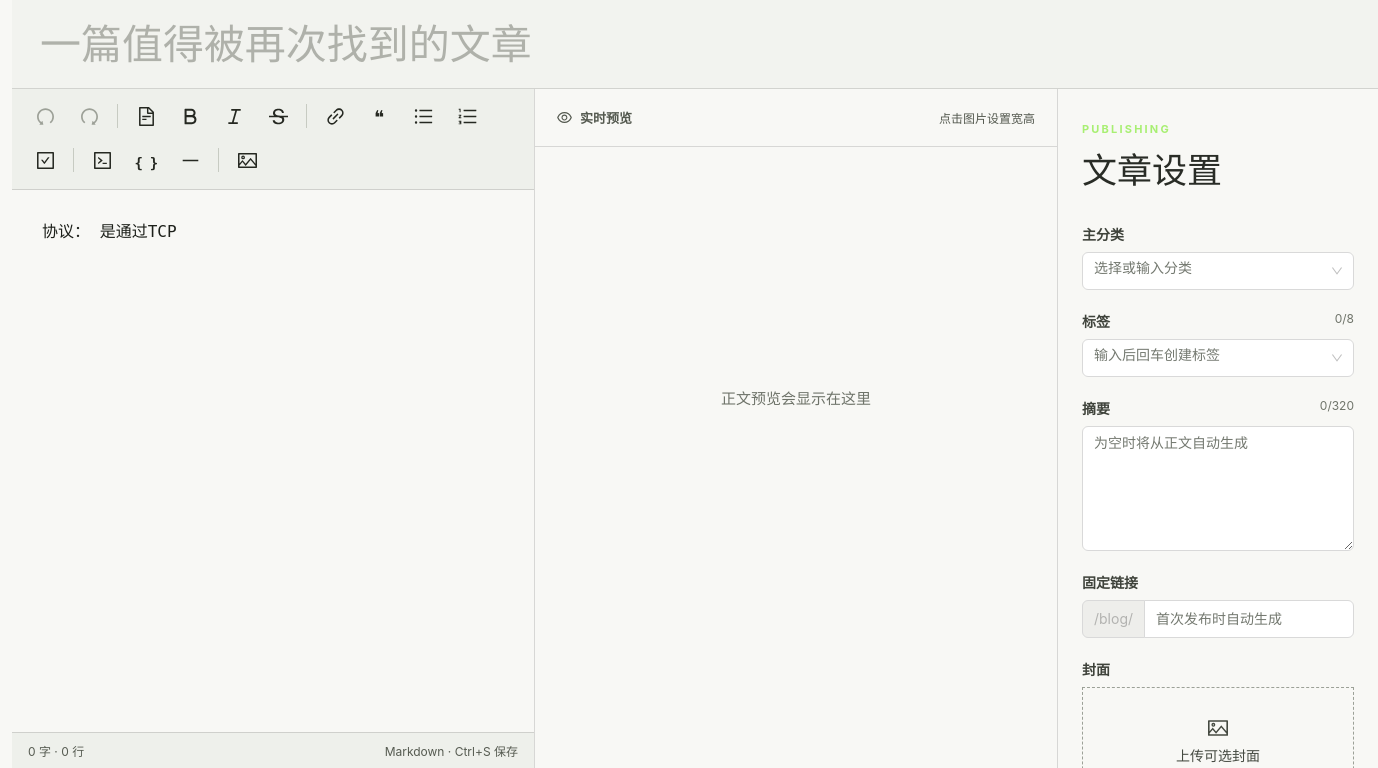
Test: BlogEditorPage interactions › toggles bold and supports undo/redo keyboard shortcuts
The width and height of the screenshot is (1378, 768).
(page scrolled)
Replace the text in the text box with class "blog-markdown-input" with "协议： 是通过TCP ": (273, 461) [12,190,534,732]
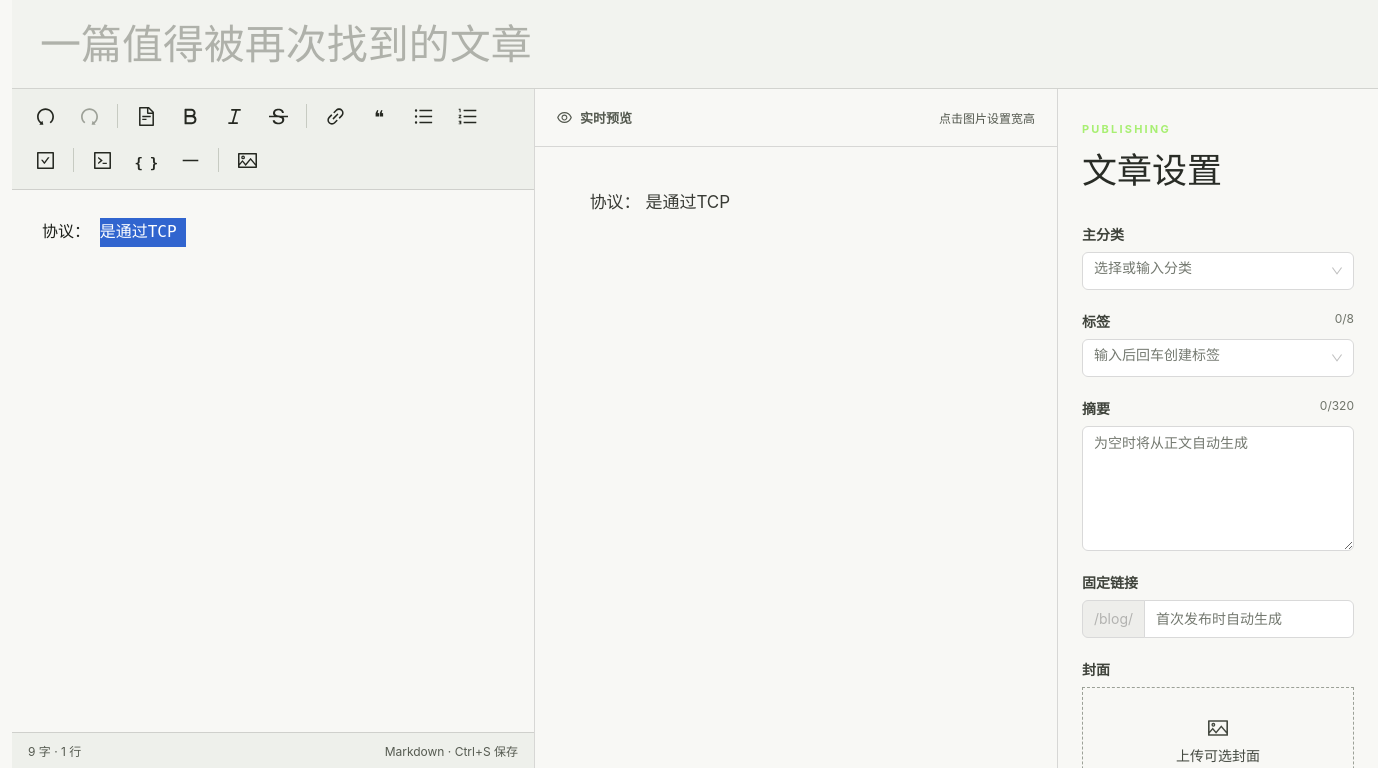
Click the button named "加粗": (190, 117) [169,96,211,138]
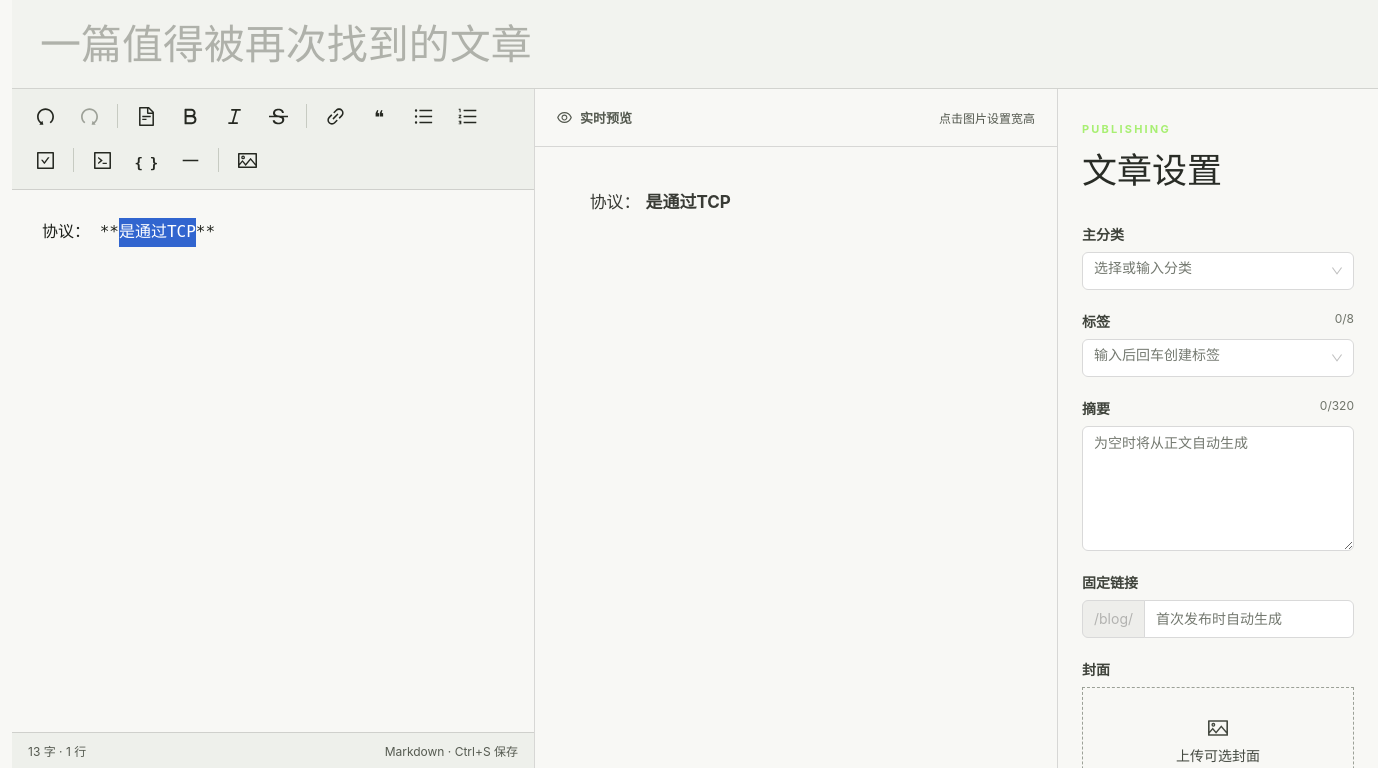
Result: the text "是通过TCP" is shown at [645,192,731,212]
Result: the text box with class "blog-markdown-input" holds "协议： **是通过TCP** " at [12,190,534,732]
Click the button named "加粗": (190, 117) [169,96,211,138]
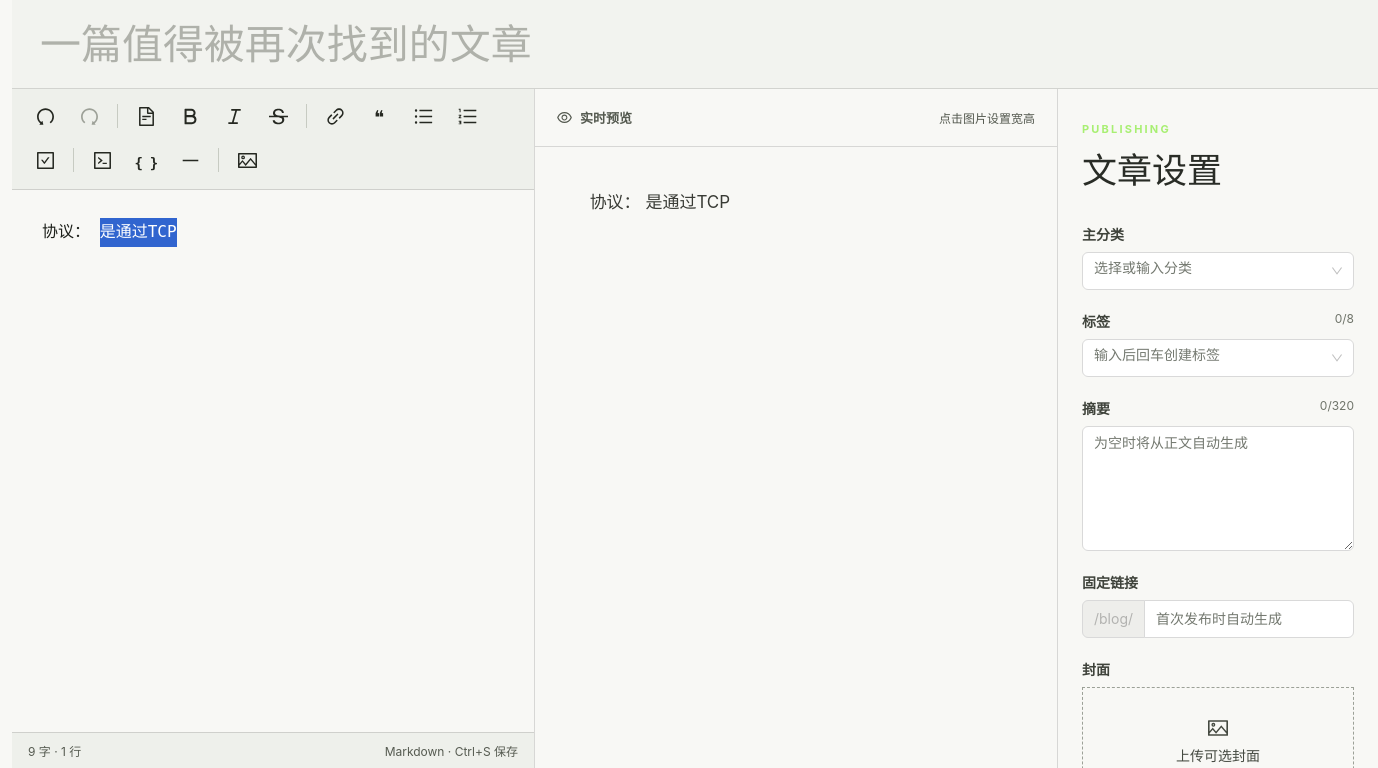
Click the button named "加粗": (190, 117) [169,96,211,138]
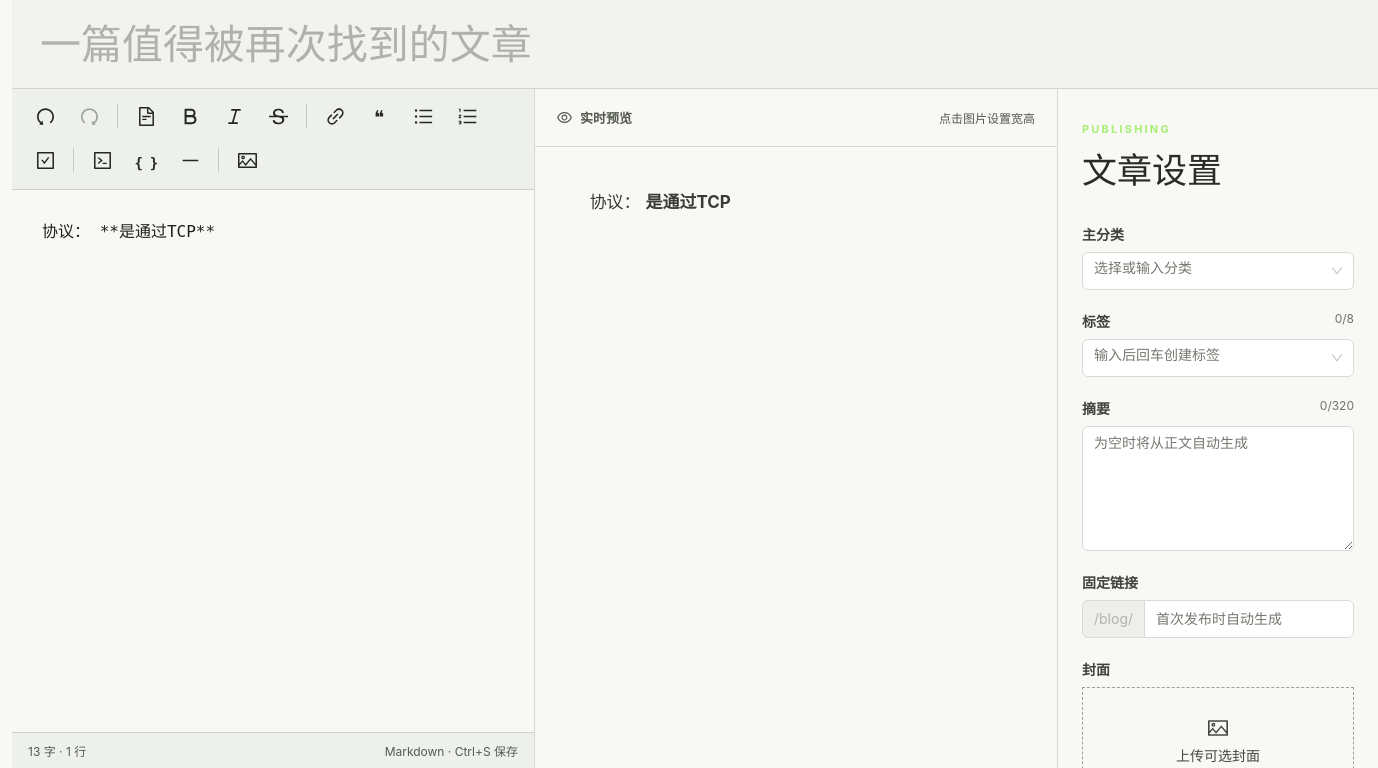
Press z in the text box with class "blog-markdown-input", box [12,190,534,732]
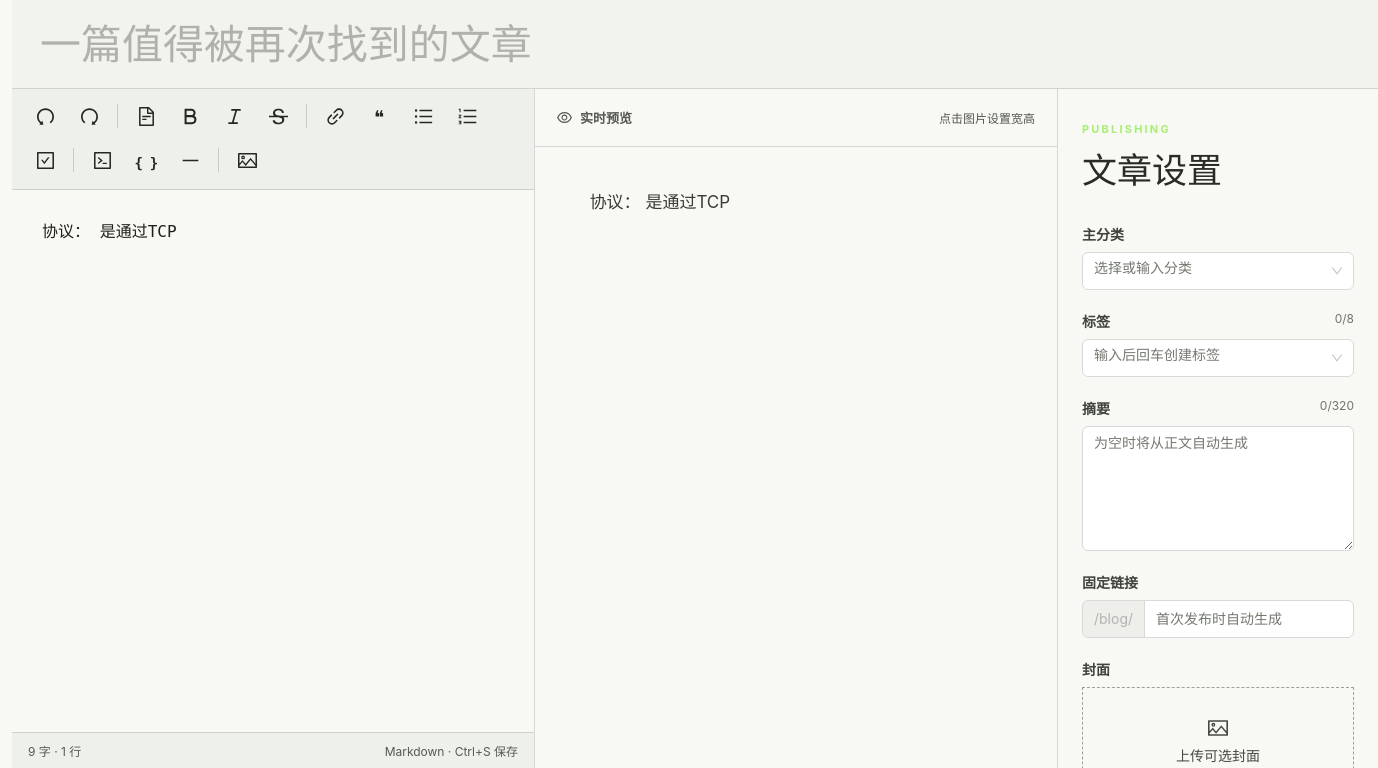
Press z in the text box with class "blog-markdown-input", box [12,190,534,732]
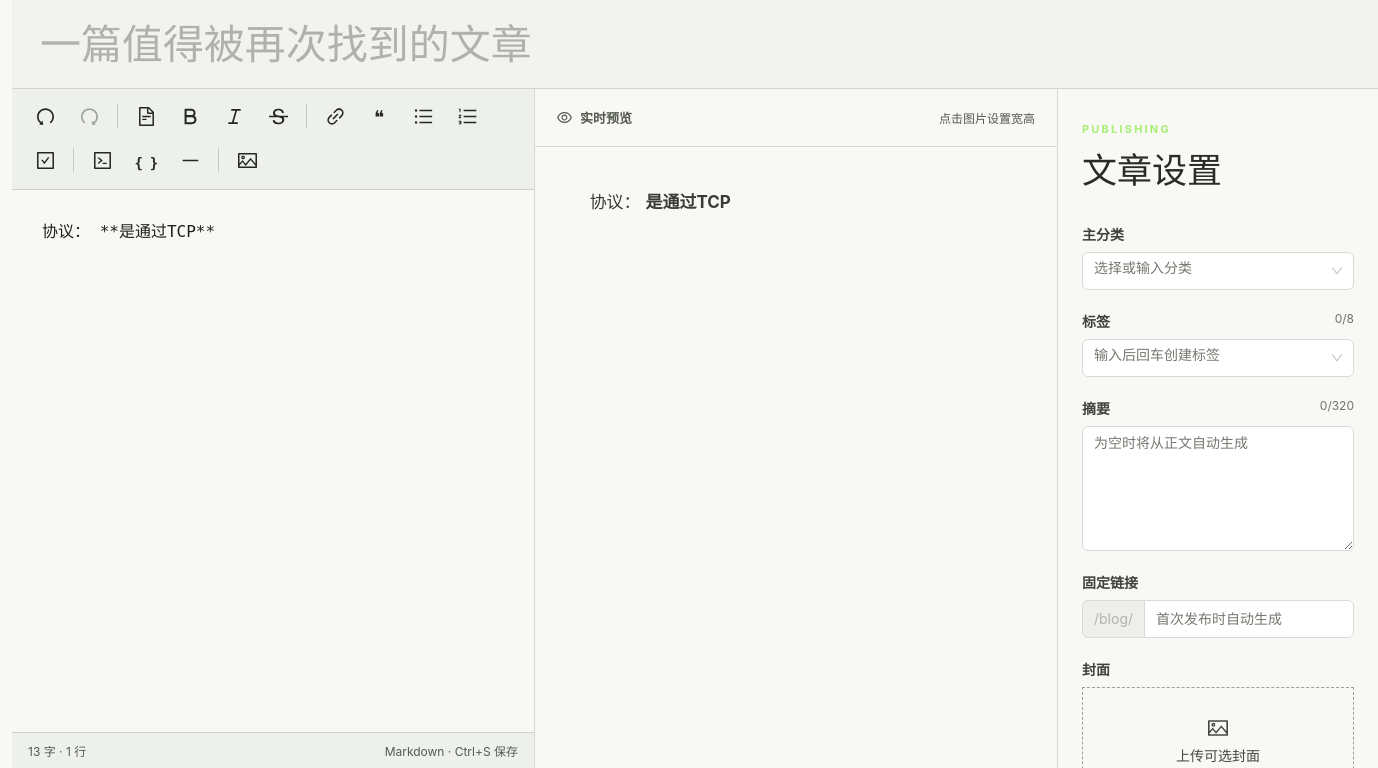
Result: the text box with class "blog-markdown-input" holds "协议： **是通过TCP** " at [12,190,534,732]
